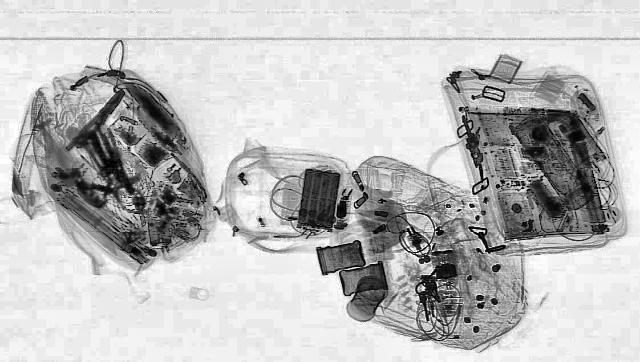Pliers: (62, 88, 130, 150)
